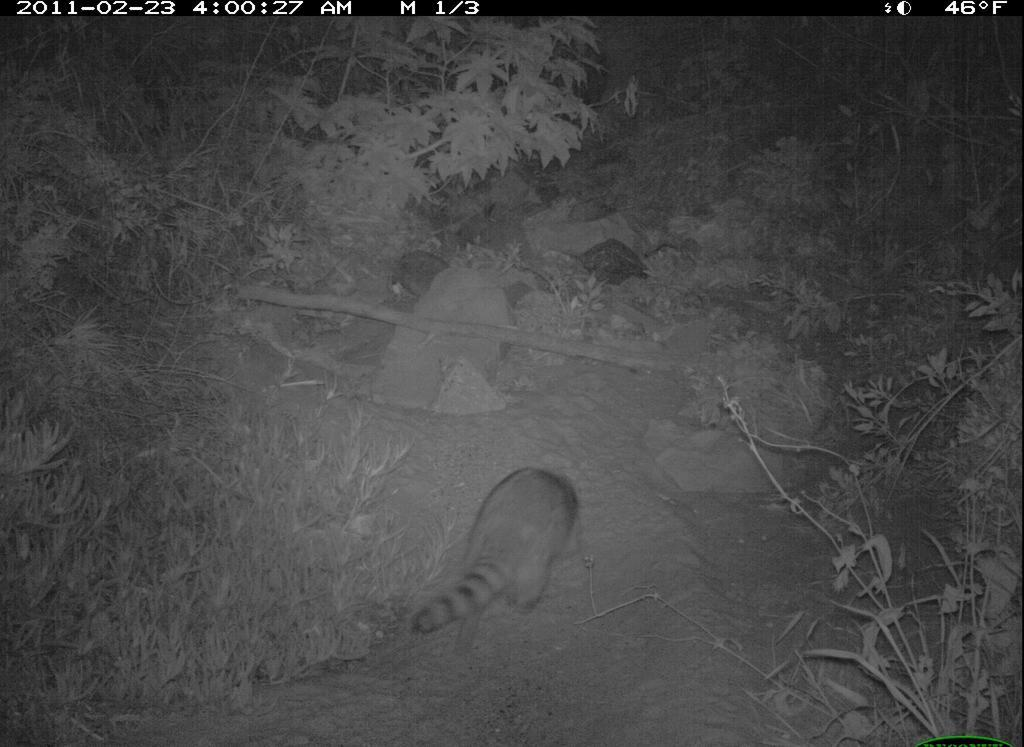raccoon: (410, 456, 589, 653)
